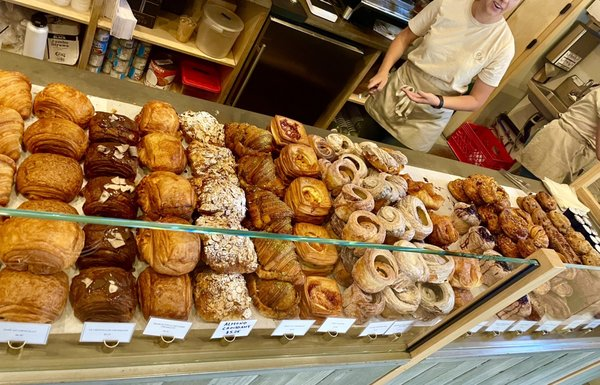burger: (100, 0, 138, 78)
salad: (69, 266, 136, 321), (135, 170, 195, 223), (204, 232, 258, 274), (286, 176, 332, 223), (352, 249, 399, 293), (139, 132, 187, 173), (304, 276, 345, 316), (322, 154, 367, 189), (280, 142, 320, 179), (341, 210, 385, 243), (294, 237, 339, 269), (361, 143, 407, 174)
